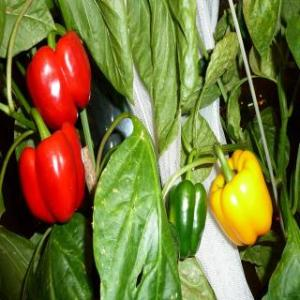bell_pepper: (25, 31, 92, 127), (210, 142, 272, 244), (20, 122, 84, 218), (170, 178, 206, 260)
